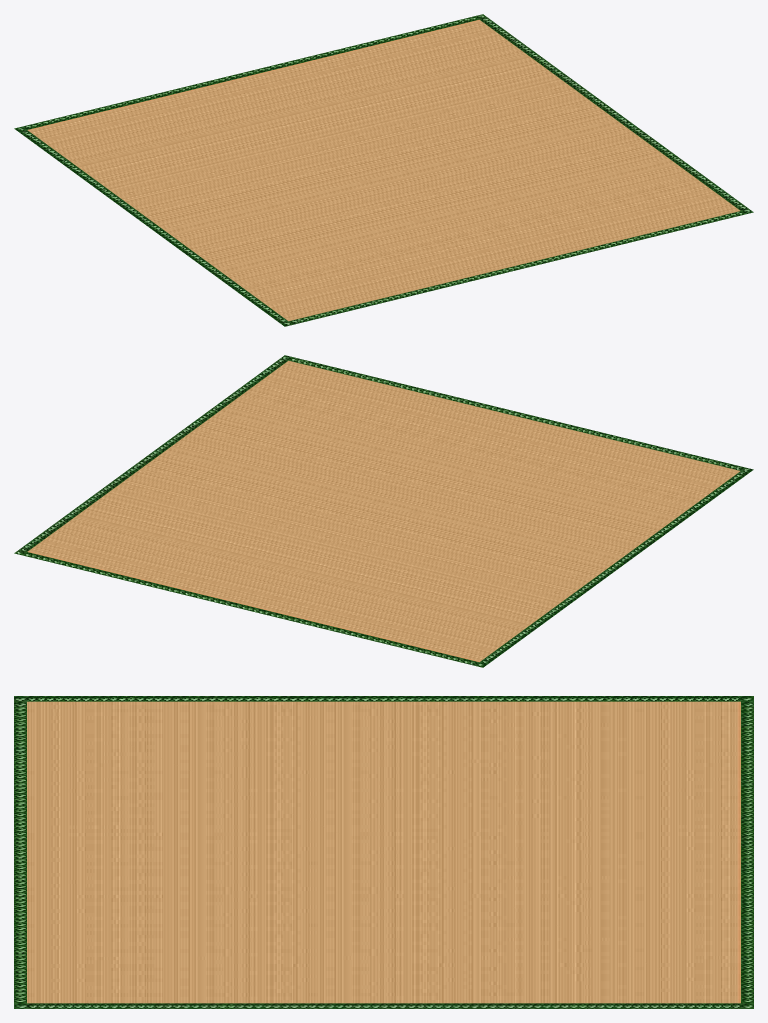
Rendered from Tatami1x1_VLO.fbx.
The picture shows the model from 3 angles, top to bottom: view 1: azimuth 30°, elevation 25°; view 2: azimuth 150°, elevation 25°; view 3: azimuth 270°, elevation 25°; orthographic projection. The views are drawn at different scales.
Parts seen in each view (by area): view 1: Tatami1x1; view 2: Tatami1x1; view 3: Tatami1x1.
Boxes of the visible parts, left/top/right/bottom form: Tatami1x1: left=14, top=14, right=753, bottom=326; Tatami1x1: left=14, top=355, right=753, bottom=667; Tatami1x1: left=14, top=696, right=753, bottom=1008.
Bounding box in the file's own units: 89.05 × 0 × 89.05.
Materials: 1 (1 with a texture image).
